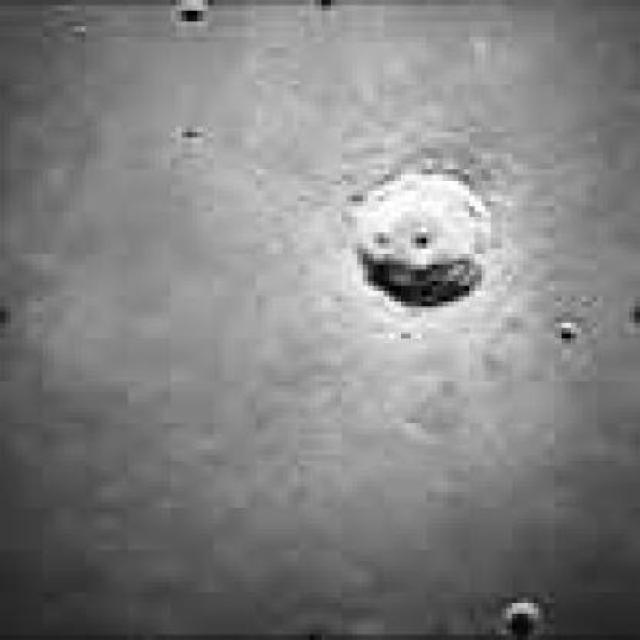crater: (357, 177, 489, 311), (504, 606, 538, 637), (172, 1, 211, 27), (554, 322, 578, 343)
